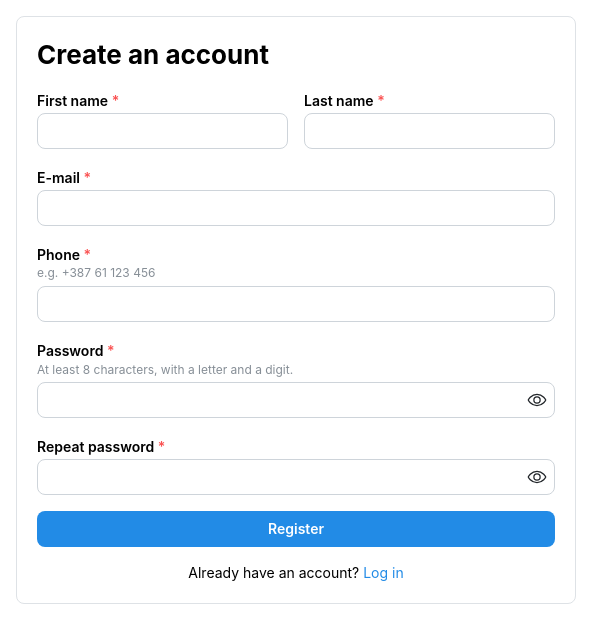
RegisterPage › shows 'e-mail taken' under the e-mail field
Type "Amra" into the field labelled "First name *" at (162, 131), box [37,113,288,149]
Type "Hodžić" into the field labelled "Last name *" at (430, 131), box [304,113,555,149]
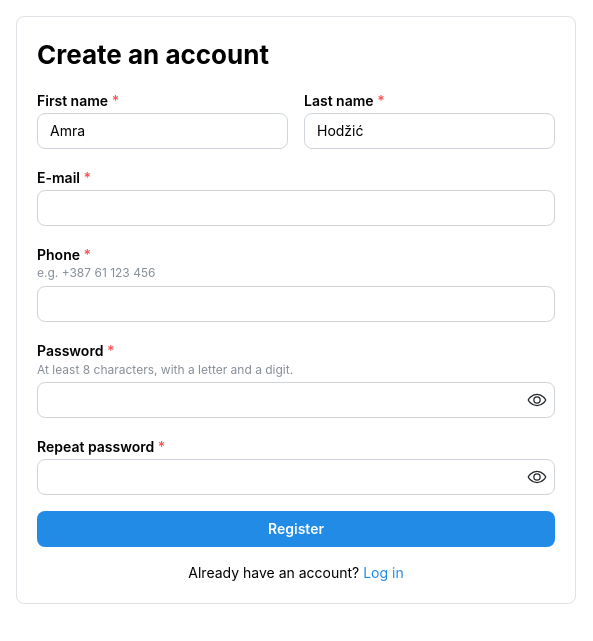
Type "amra@example.com" into the field labelled "E-mail *" at (296, 208), box [37,190,555,226]
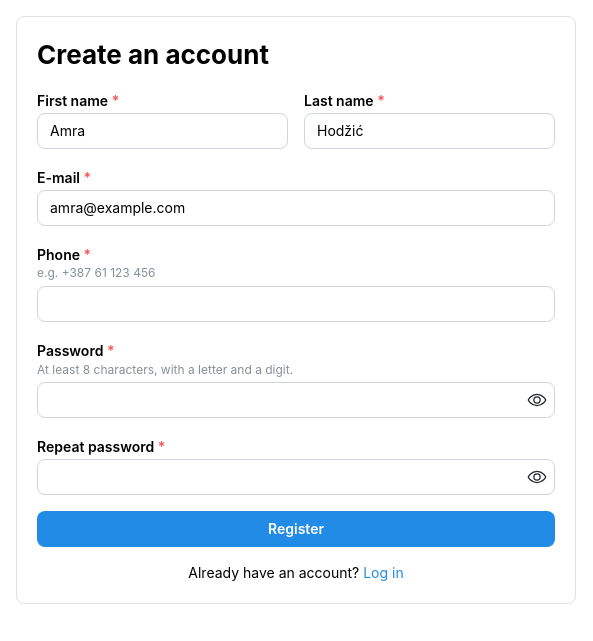
Type "+387 61 123 456" into the field labelled "Phone *" at (296, 304), box [37,286,555,322]
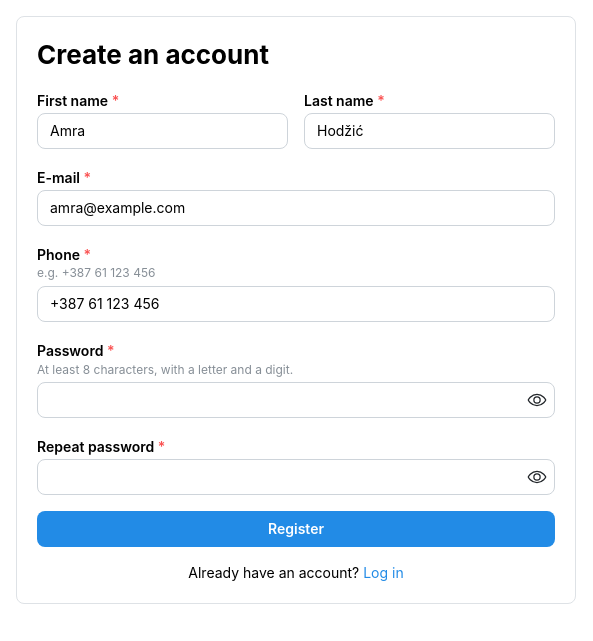
Type "Coworking123" into the password field labelled "Password *" at (296, 400), box [38,383,554,417]
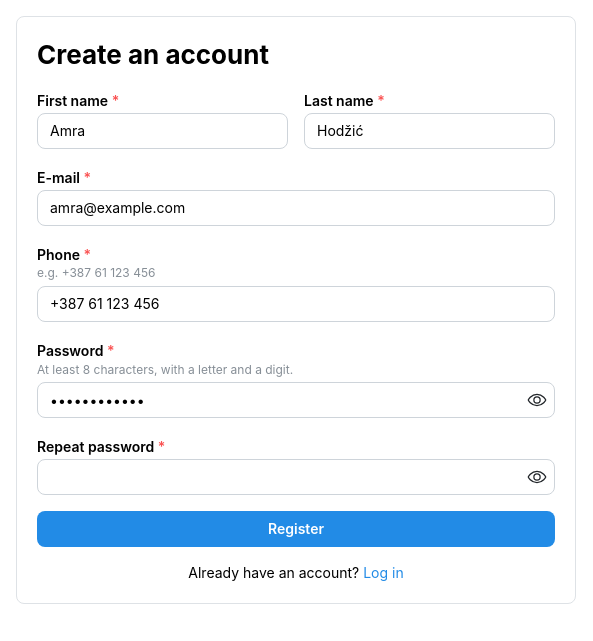
Type "Coworking123" into the password field labelled "Repeat password *" at (296, 477), box [38,460,554,494]
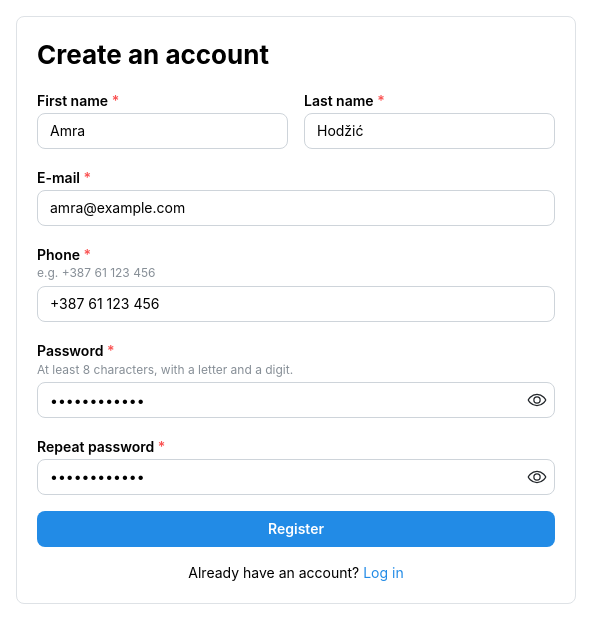
Click the button "Register" at (296, 529), box [37,511,555,547]
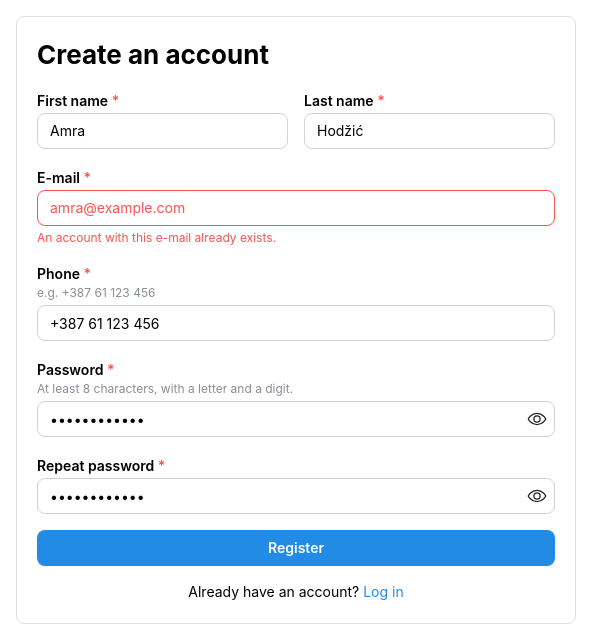
Check: the text "An account with this e-mail already exists." is shown, box [37,230,276,245]
